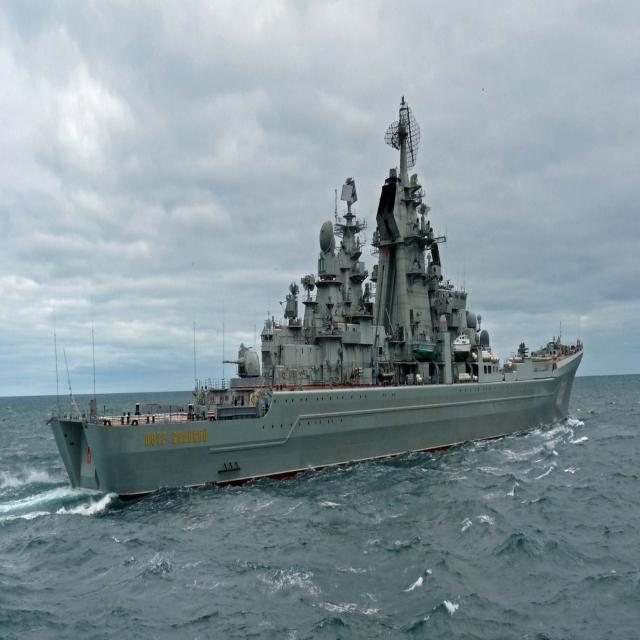navalvessels: (37, 92, 596, 496)
